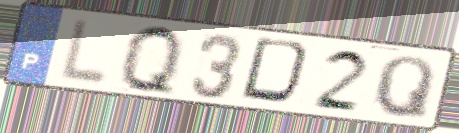2: (307, 48, 373, 114)
3: (188, 30, 244, 101)
D: (237, 35, 318, 109)
L: (55, 17, 111, 89)
Q: (120, 21, 185, 100), (370, 54, 438, 122)
